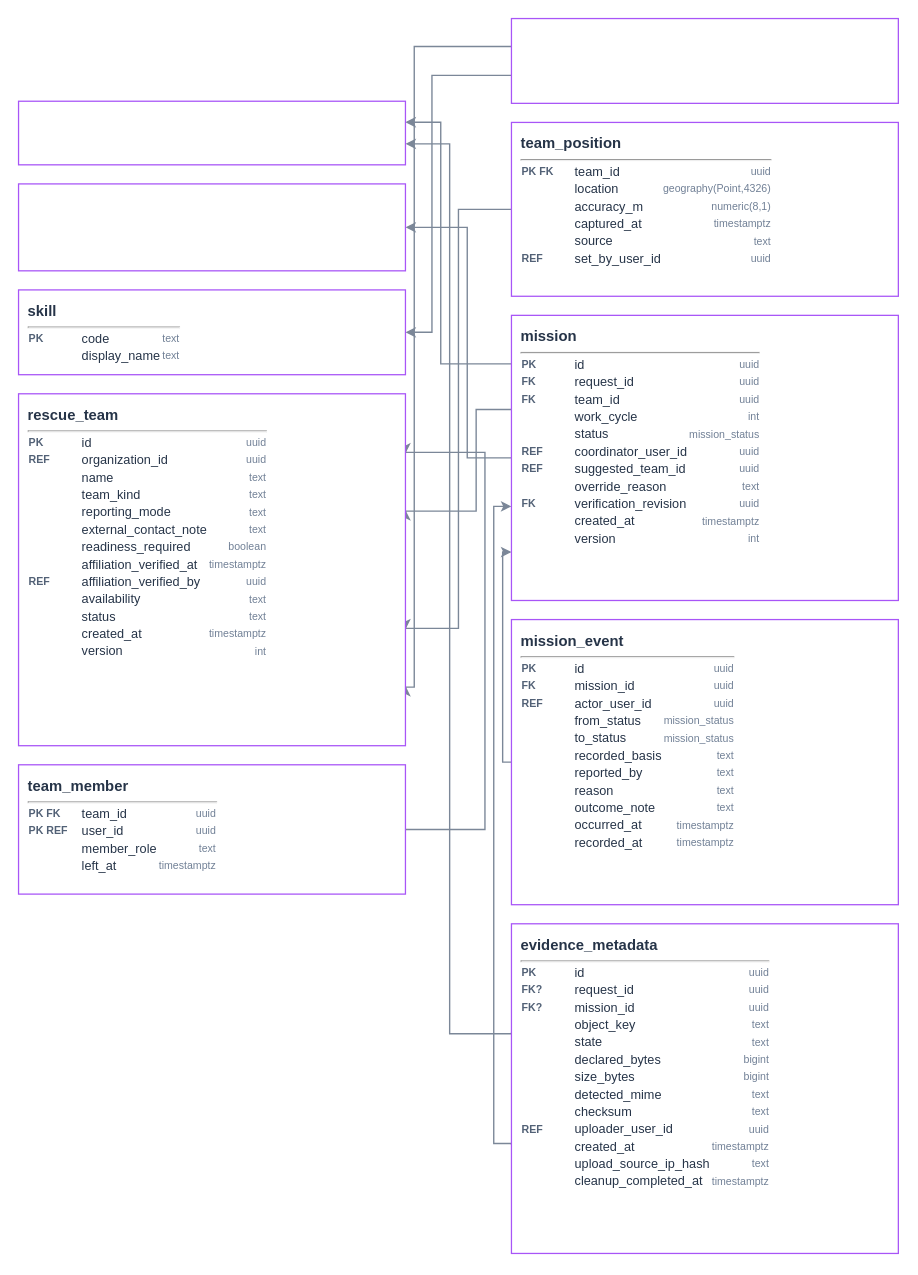
Some shapes in this 918 by 1275 pixel diagram are drawn without their labels. The shapes that lost their labels are listed below. From the top down, each one's centre as x and y in pixels, then its label:
At (704,60): "team_skill PK FK team_id uuid PK FK skill_code text".
At (211,132): "assistance_request PK id uuid".
At (211,227): "request_event PK id uuid UK* request_id uuid".
